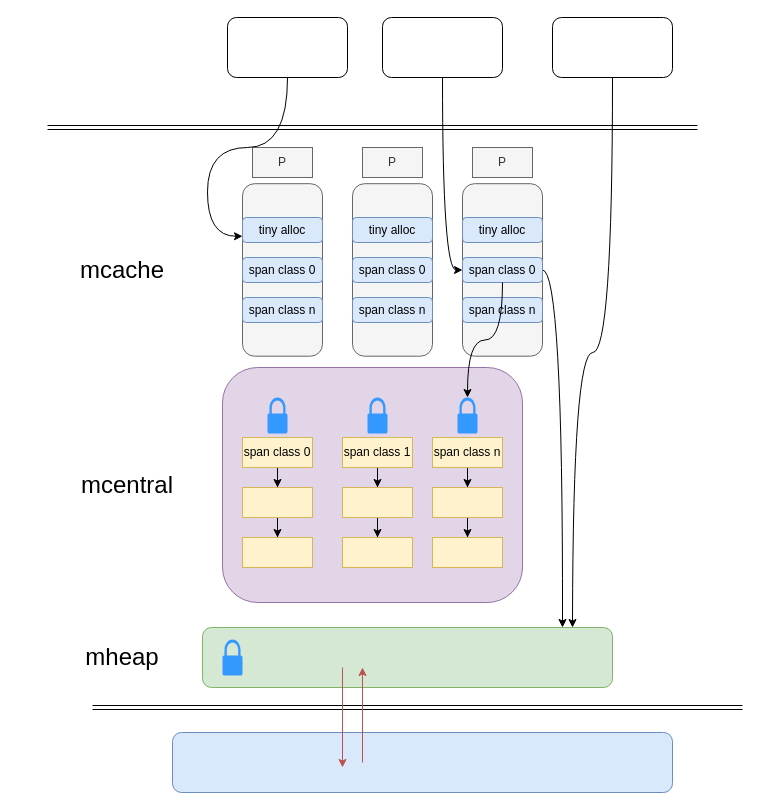
This 760x810 diagram has some shape labels left out. Each missing label, with the box of its shape:
大对象: (552, 16, 672, 78)
小对象: (382, 16, 502, 78)
微对象: (226, 16, 348, 78)
虚拟内存: (172, 732, 672, 792)
